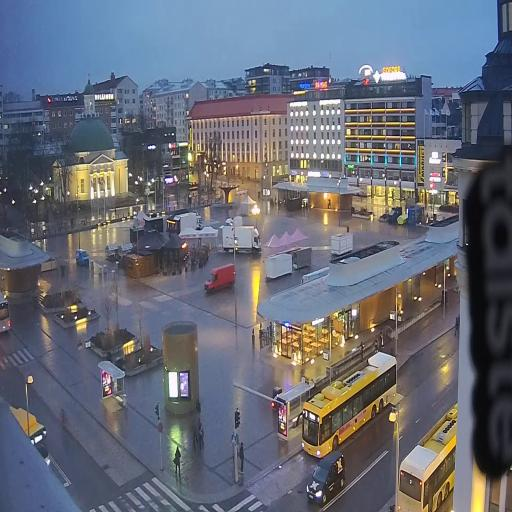bus: (296, 346, 402, 460), (392, 394, 462, 512), (7, 400, 54, 474), (0, 283, 20, 342)
delivery: (303, 443, 352, 505), (218, 224, 263, 258), (200, 259, 240, 296), (172, 210, 205, 239), (222, 210, 248, 230), (74, 247, 90, 272)
